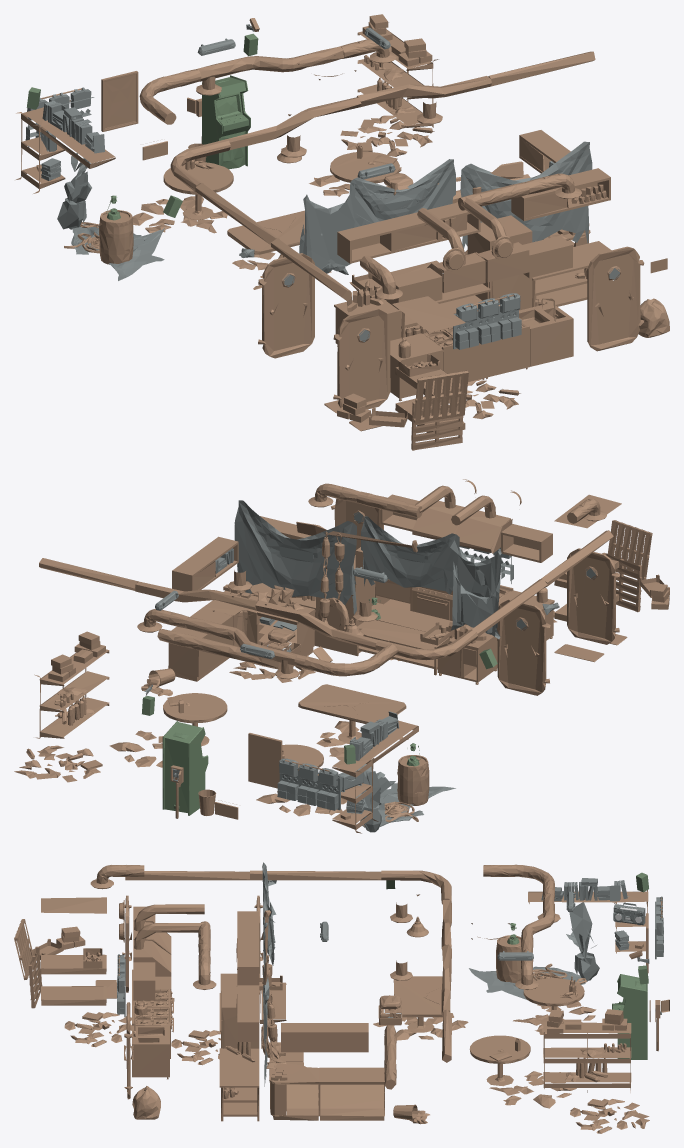
File: underwater_lab_b-mid.glb
3 renders of one model, top to bottom at view 1: azimuth 30°, elevation 25°; view 2: azimuth 150°, elevation 25°; view 3: azimuth 270°, elevation 25°, orthographic. The views are drawn at different scales.
Parts seen in each view (by area): view 1: gambling_lamp_LOD0, mesh (plight ceiling), lantern; view 2: gambling_lamp_LOD0, mesh (plight ceiling), lantern; view 3: gambling_lamp_LOD0, mesh (plight ceiling), lantern.
Part boxes in pixels (x1=…): gambling_lamp_LOD0: x1=16, y1=14, x2=669, y2=450; mesh (plight ceiling): x1=25, y1=24, x2=619, y2=349; lantern: x1=26, y1=33, x2=258, y2=220; gambling_lamp_LOD0: x1=14, y1=479, x2=669, y2=833; mesh (plight ceiling): x1=144, y1=500, x2=595, y2=832; lantern: x1=142, y1=597, x2=497, y2=815; gambling_lamp_LOD0: x1=14, y1=864, x2=669, y2=1133; mesh (plight ceiling): x1=117, y1=862, x2=663, y2=1086; lantern: x1=386, y1=872, x2=648, y2=1059.
Bounding box in the file's own units: 10.78 × 3.55 × 15.
